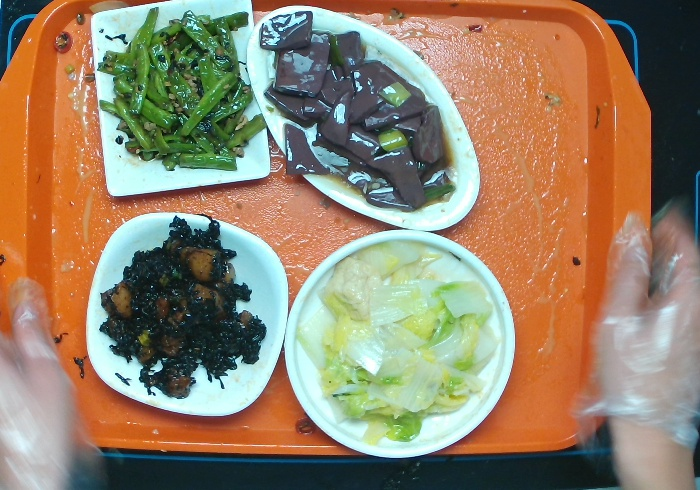HZYJPL-Si_Fang_Die: (86, 1, 277, 204)
HZYJPL-Si_Fang_Yuan_Die: (75, 207, 293, 420)
HZYJPL-Xiao_Yu_Die: (241, 1, 487, 237)
HZYJPL-Xiao_Yuan_Die: (281, 223, 519, 468)
